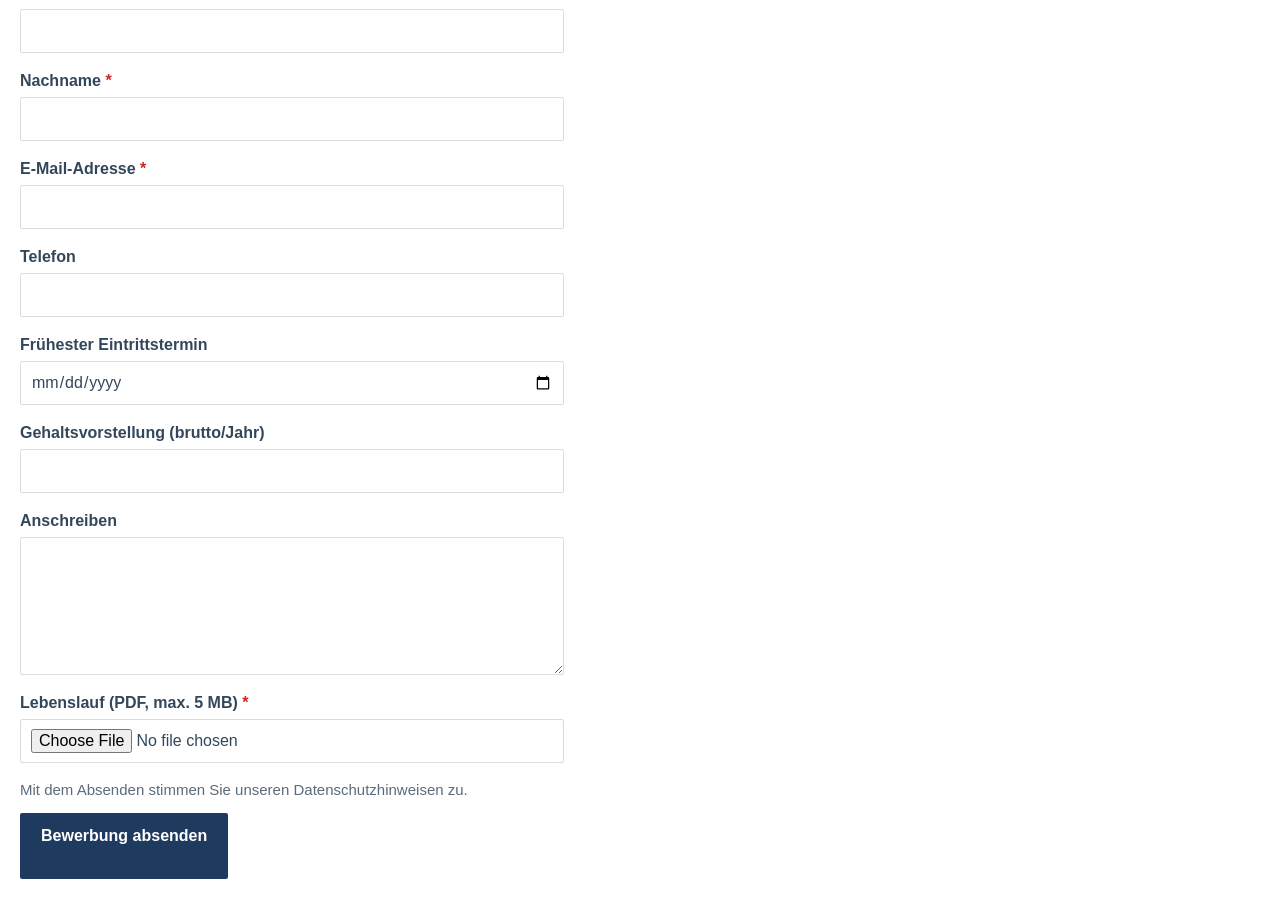
Test case: ApplicationFormStepComponent (docs/SPEC_v1.md Slice 8) › barrier `tastatur` — active (docs/ARCHITECTURE.md §5.3) › still reacts to a mouse click — the barrier is the keyboard, not the button
(page scrolled)
Click the button with class "submit-button".
click(124, 846)  # box [20, 813, 228, 879]
(page scrolled)
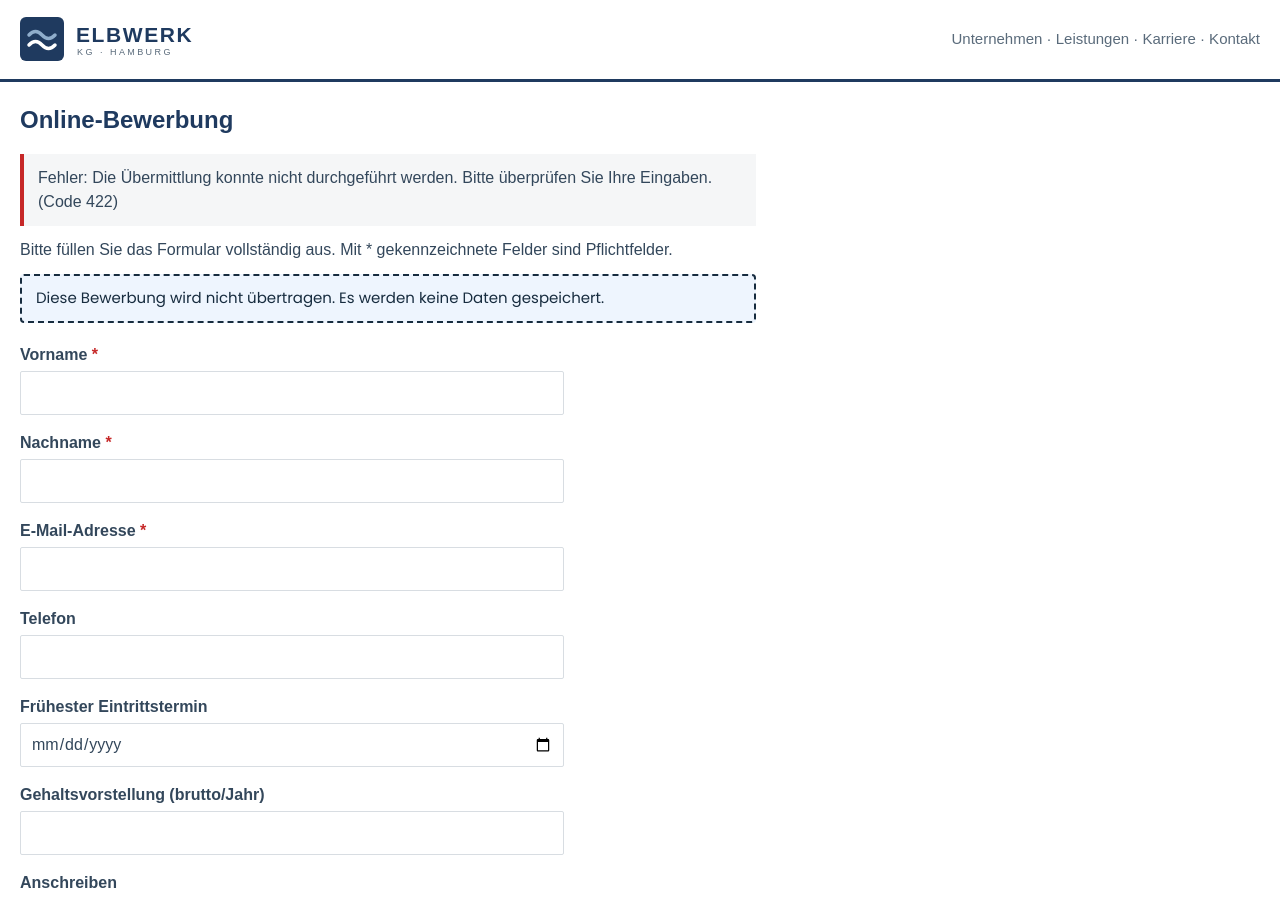
Expected: the text with class "error-generic" is shown, [20, 154, 756, 226]
